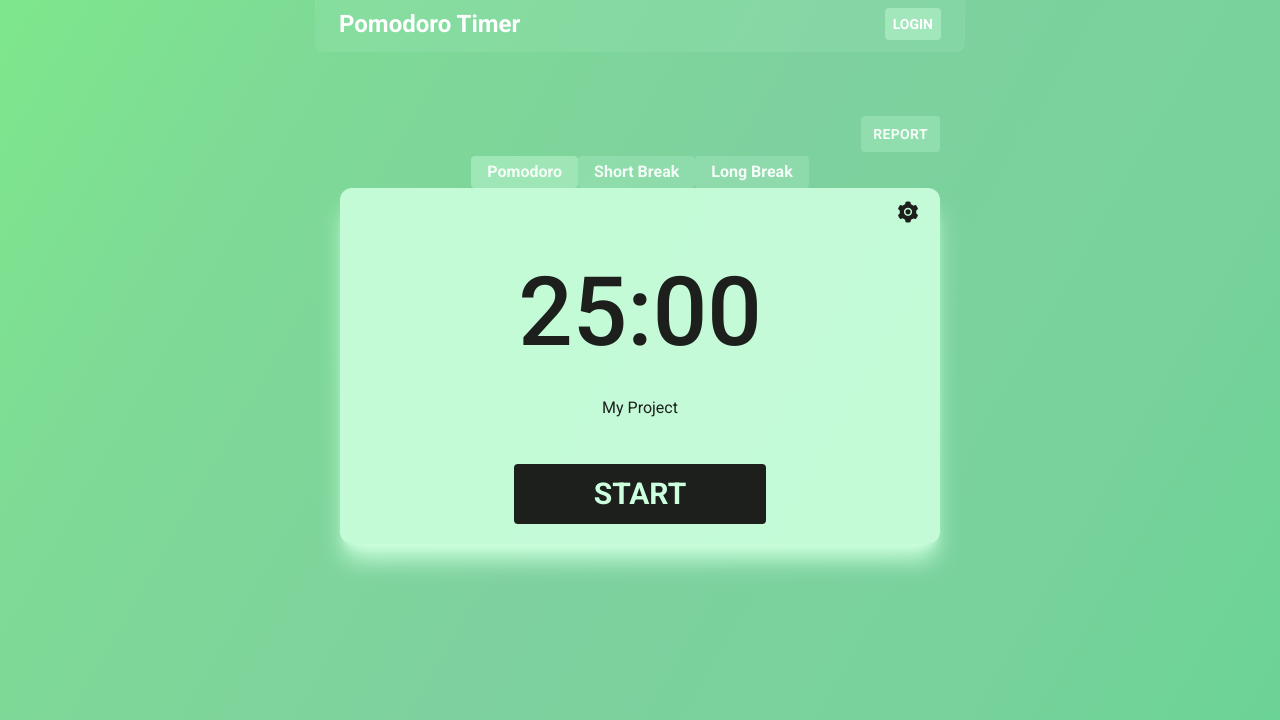
Test case: Delete Timer › should delete the timer
Click the button with test id "edit-button" at (908, 212), box [896, 200, 920, 224]
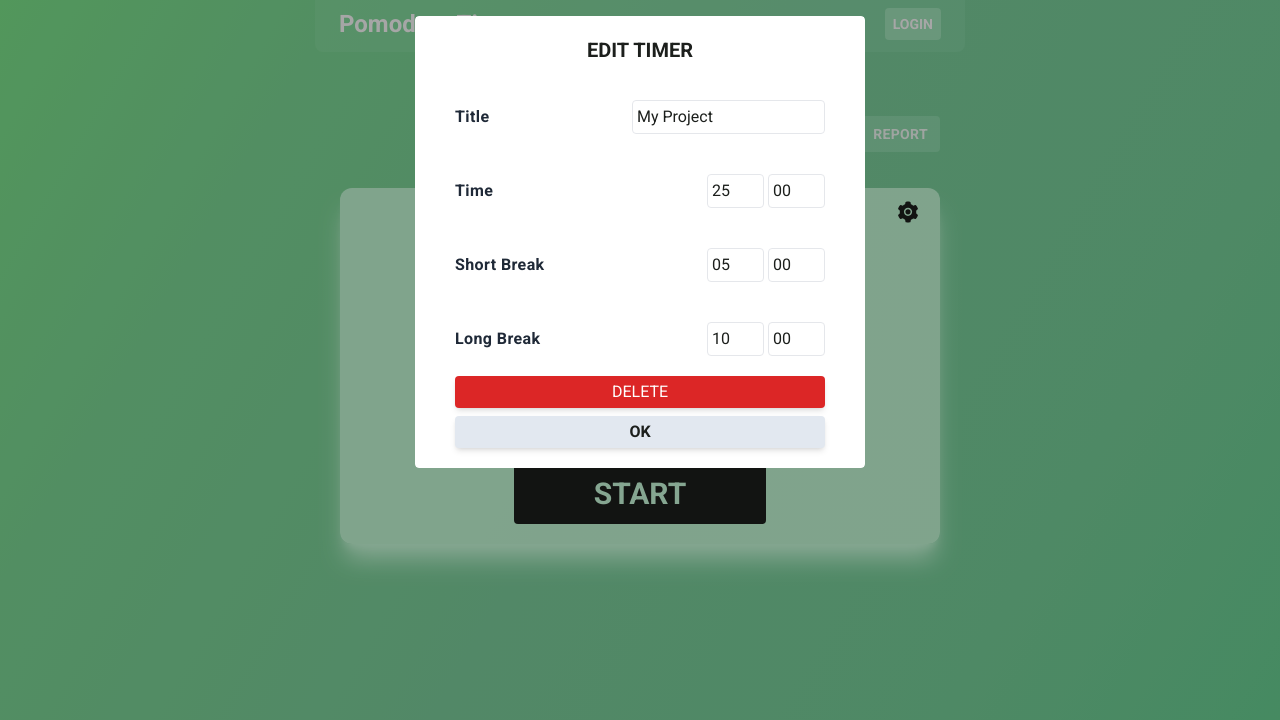
Now the element with test id "modal" is shown, box [415, 16, 865, 468]
Replace the text in the field with test id "input-title" with "Testing" at (729, 117), box [632, 100, 825, 134]
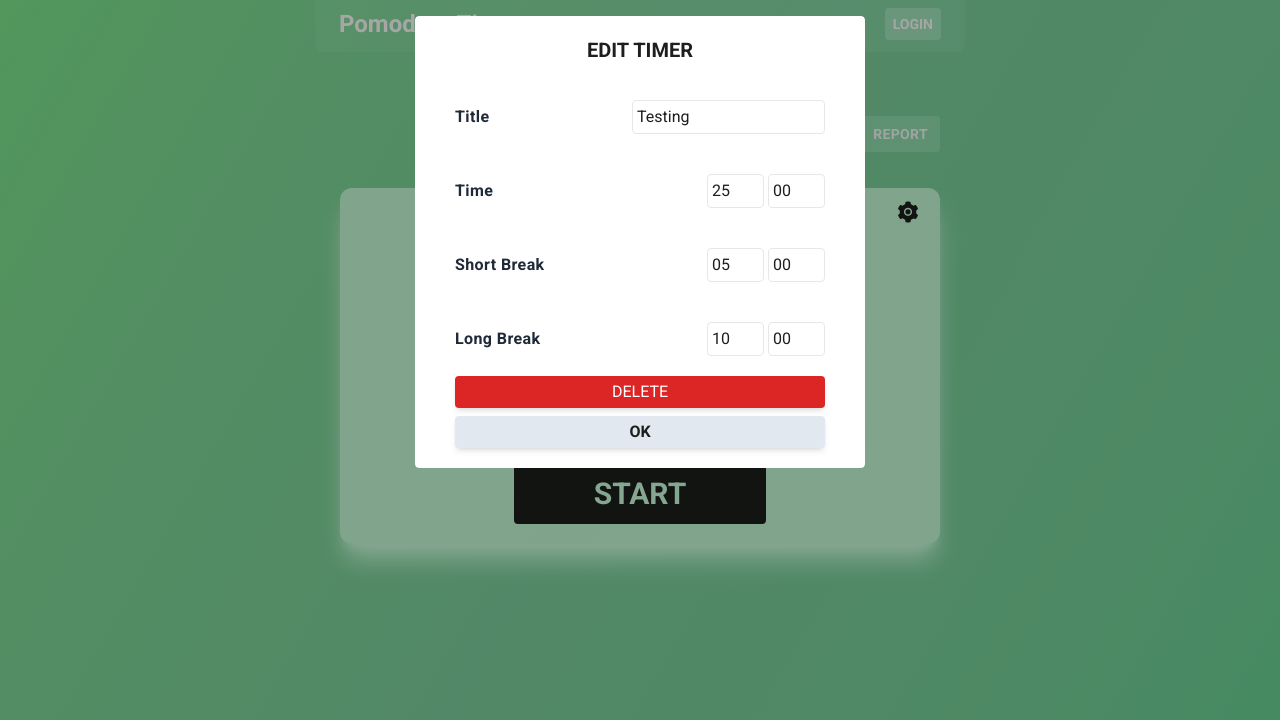
Click the button with test id "edit-submit" at (640, 432), box [455, 416, 825, 448]
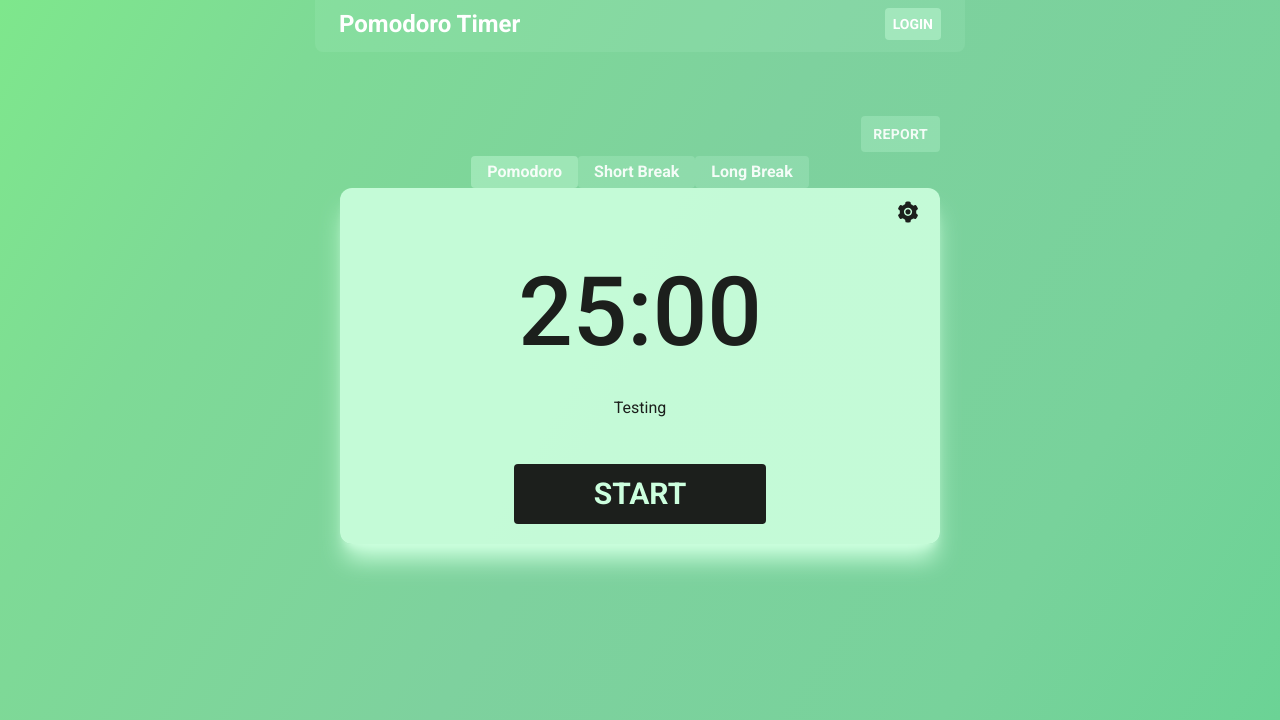
Expected: the text with test id "display-timer" reads "25:00", [518, 264, 762, 360]
Now the button with test id "timer-title" reads "Testing", box [560, 392, 720, 424]
Click the button with test id "edit-button" at (908, 212), box [896, 200, 920, 224]
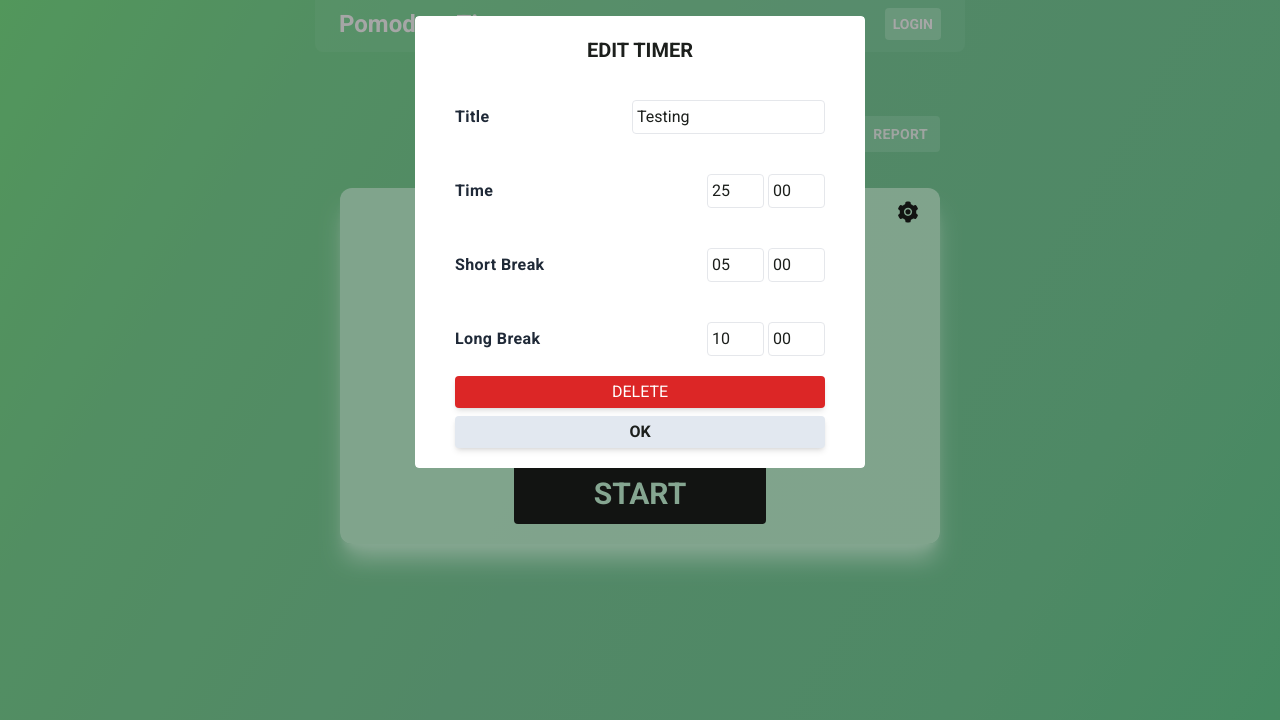
Now the element with test id "modal" is shown, box [415, 16, 865, 468]
Now the button with test id "delete-button" is shown
Click the button with test id "delete-button" at (640, 392), box [455, 376, 825, 408]
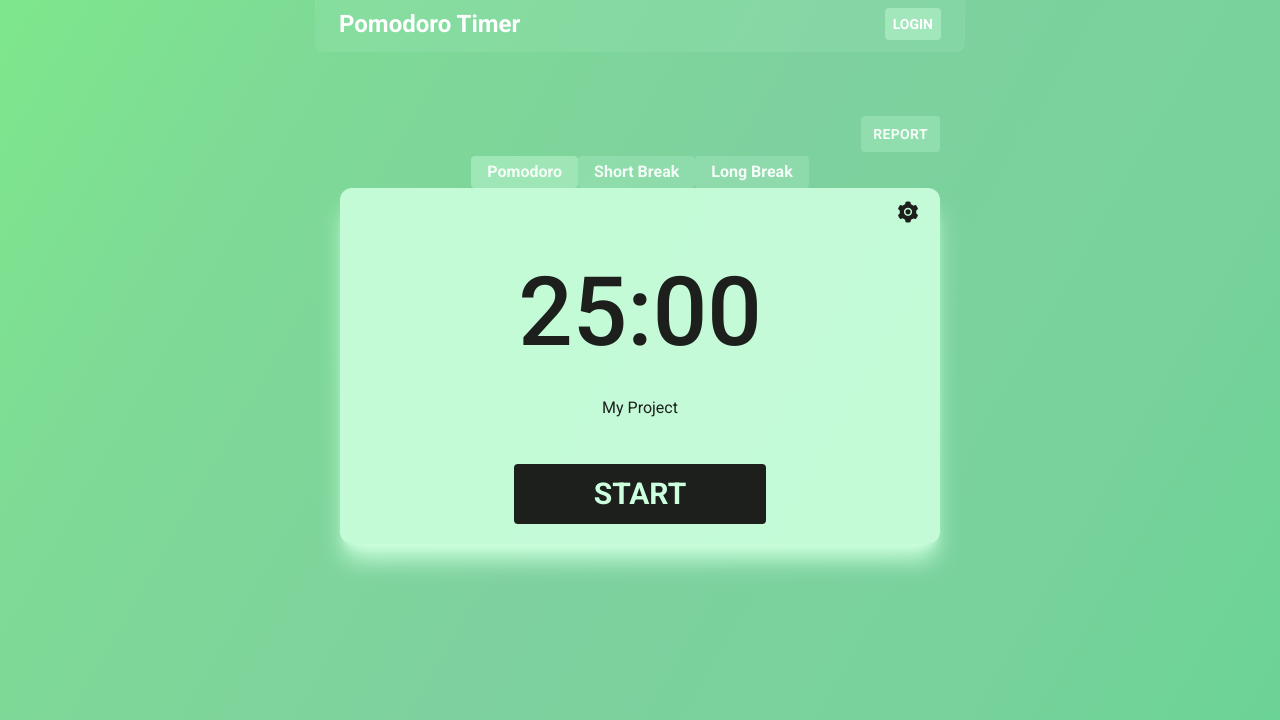
Expected: the text with test id "display-timer" reads "25:00", [518, 264, 762, 360]
Now the button with test id "timer-title" reads "My Project", box [560, 392, 720, 424]
